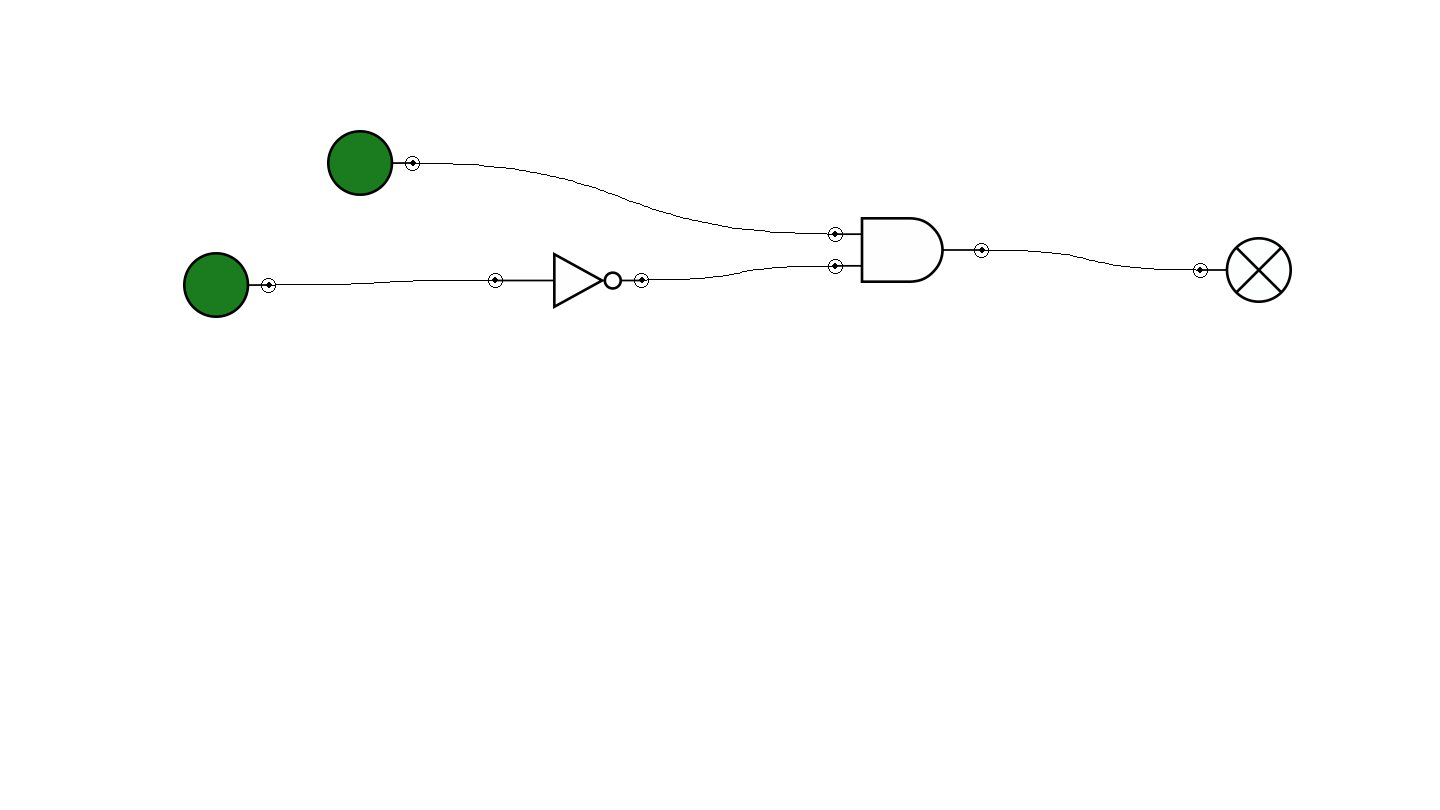and: (828, 217, 989, 283)
bulb: (1193, 237, 1292, 303)
not: (488, 252, 649, 309)
switch_True: (327, 130, 420, 196), (183, 252, 276, 318)
